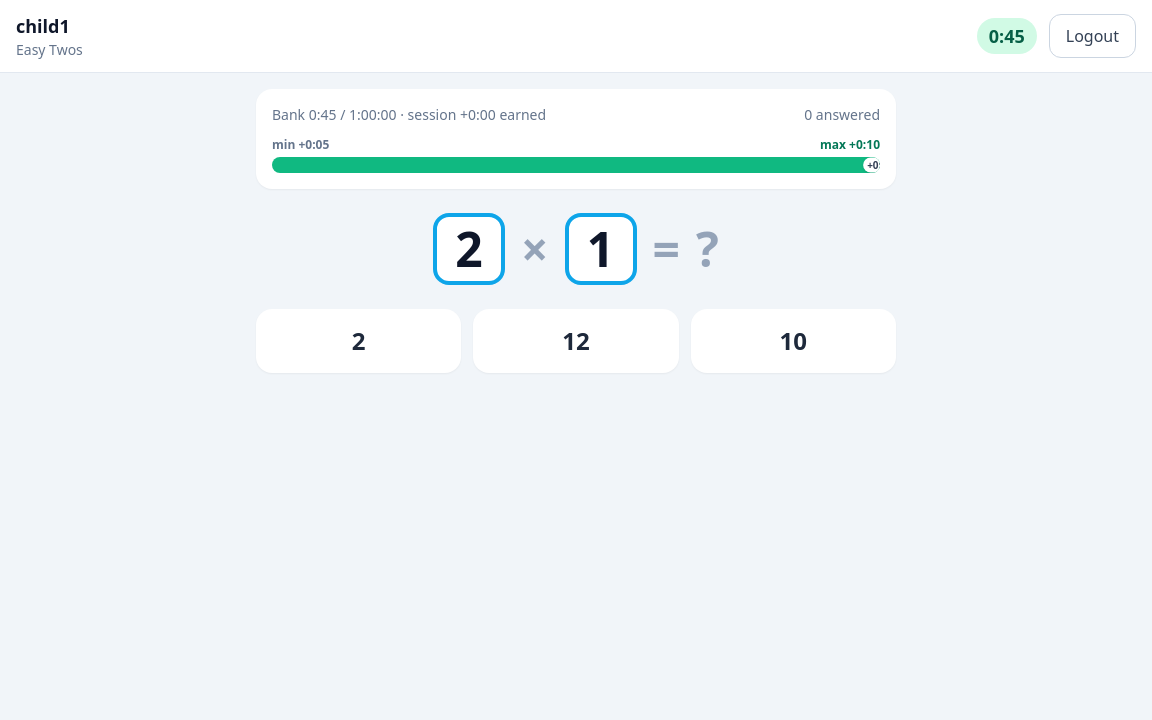
Test case: T31 — feedback shows the seconds won or lost › case 2: a wrong answer shows the taken seconds
The width and height of the screenshot is (1152, 720).
Expected: the element with test id "question" is shown, [433, 213, 719, 285]
Expected: the element with test id "answers" is shown, [256, 309, 896, 373]
Click the button with test id "^answer-". click: coordinates (576, 341)
box: [473, 309, 679, 373]
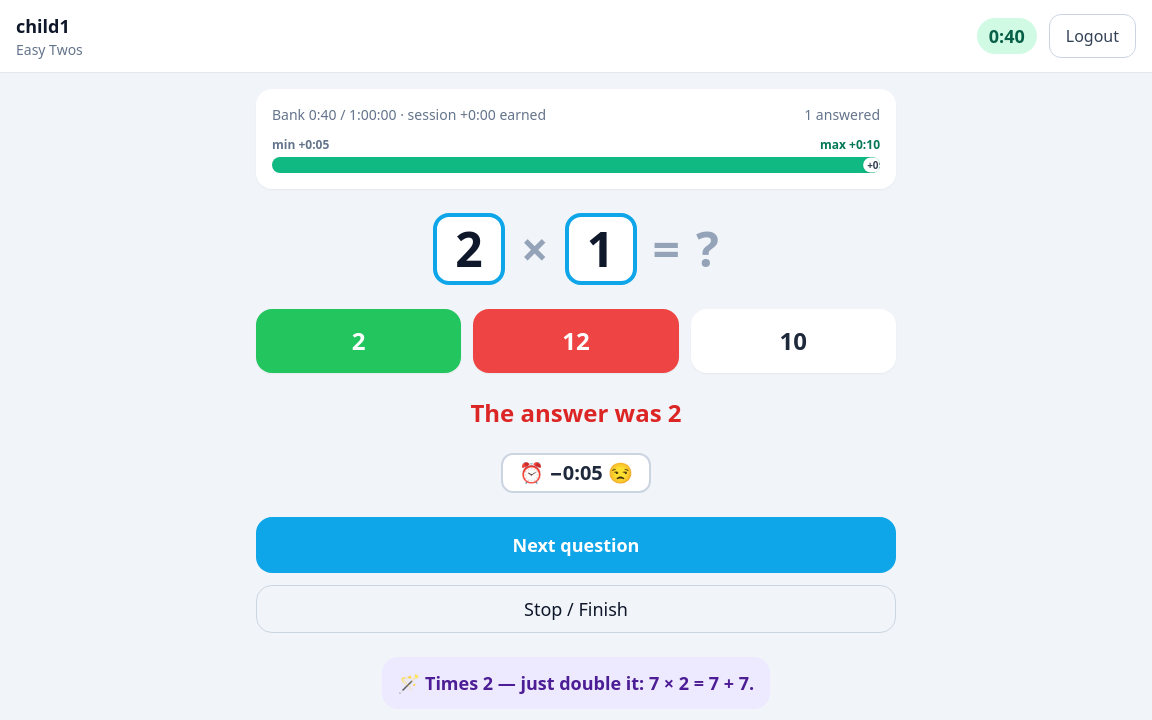
Result: the text with test id "feedback-delta" reads "⏰ −0:05 😒" at [519, 459, 633, 486]
